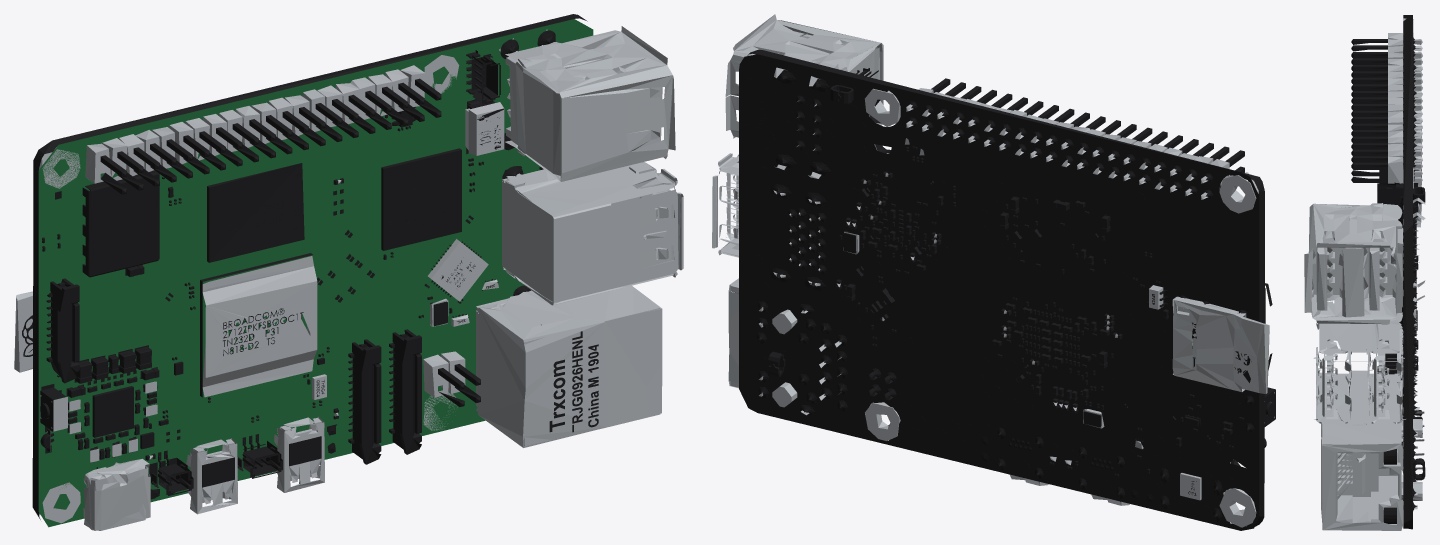
Rendered from raspberry-pi-5.glb.
The picture shows the model from 3 angles, left to right: view 1: azimuth 30°, elevation 25°; view 2: azimuth 150°, elevation 25°; view 3: azimuth 270°, elevation 25°; orthographic projection. The views are drawn at different scales.
Visible parts, largest first — view 1: part_6, part_0, part_1; view 2: part_1, part_6; view 3: part_6, part_1.
Boxes of the visible parts, x1,y1,x2,y2 form: part_6: (14, 26, 683, 530); part_0: (38, 19, 593, 527); part_1: (22, 14, 598, 519); part_1: (735, 49, 1275, 530); part_6: (712, 14, 1274, 527); part_6: (1304, 18, 1425, 530); part_1: (1351, 15, 1425, 529).
Bounding box in the file's own units: 92.09 × 57.52 × 19.93.
